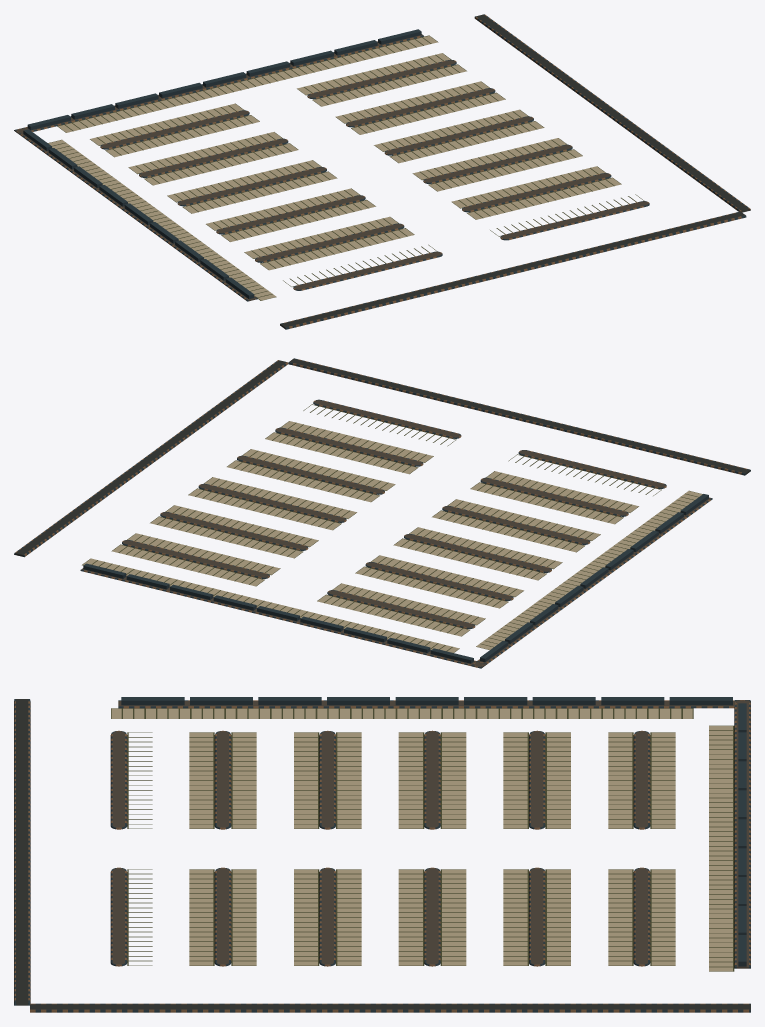
Rendered from Parking_Area.fbx.
3 views of the same model, one above another, from view 1: azimuth 30°, elevation 25°; view 2: azimuth 150°, elevation 25°; view 3: azimuth 270°, elevation 25° (orthographic). The views are drawn at different scales.
Parts seen in each view (by area): view 1: Cube.059; view 2: Cube.059; view 3: Cube.059.
Boxes of the visible parts, box(x1,y1,x2,y2) form: Cube.059: box(14, 14, 750, 329); Cube.059: box(14, 358, 750, 668); Cube.059: box(14, 697, 750, 1012).
Bounding box in the file's own units: 7000 × 62.5 × 6999.
